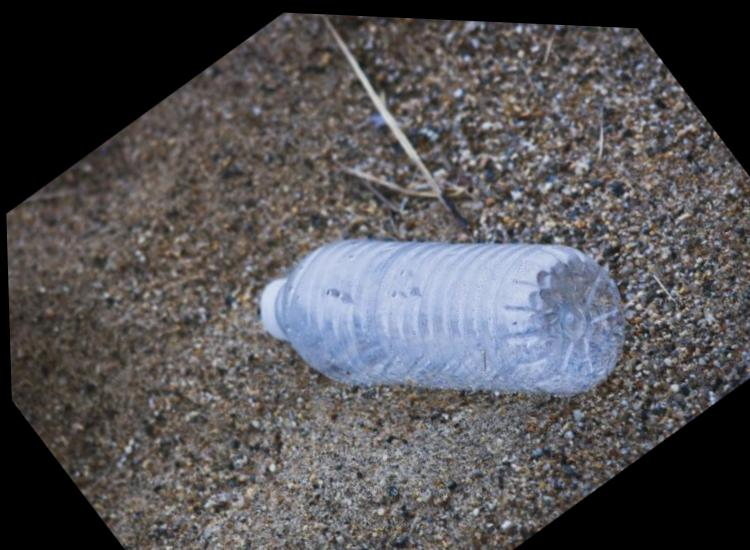plastic: (261, 46, 666, 546)
